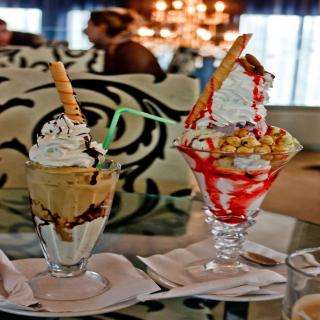Ice cream: (177, 55, 298, 225), (26, 114, 110, 170)
